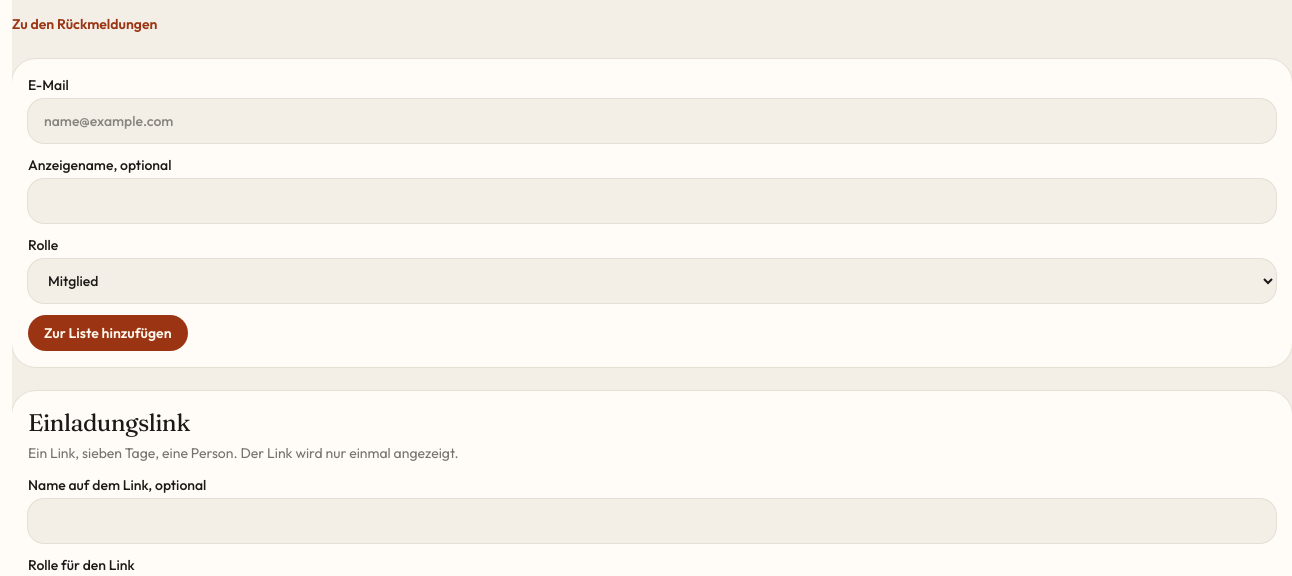
Test: AdminMembers › shows the German error when the invite is rejected
Type "ada@example.com" into the field labelled "E-Mail" at (652, 121), box [28,99,1276,143]
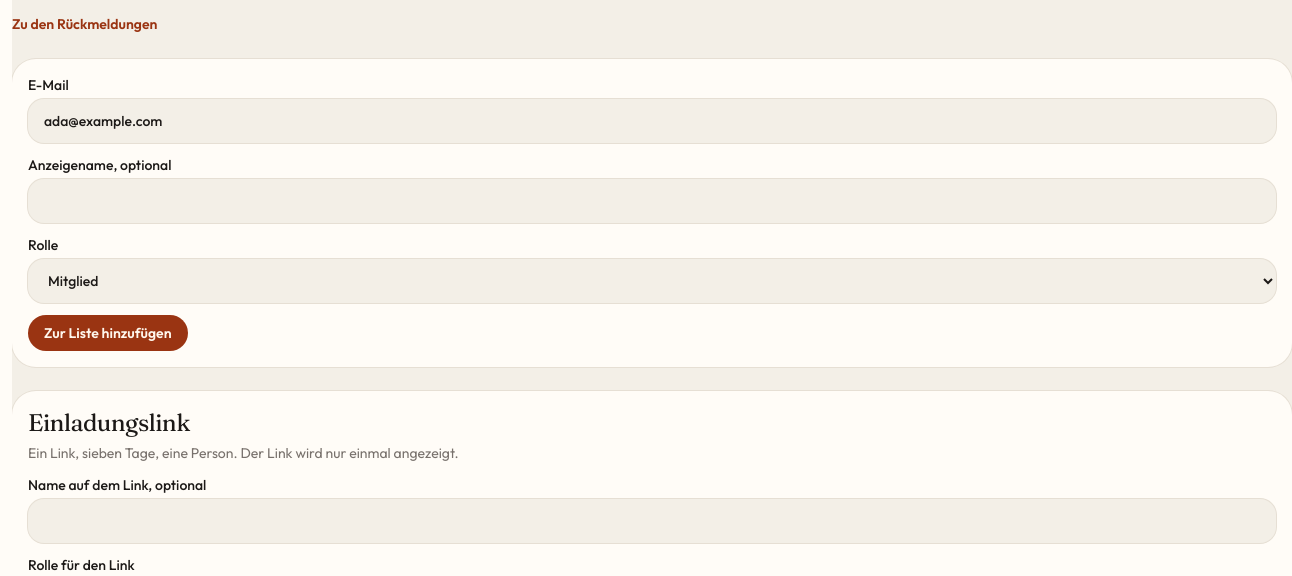
Click the button "Zur Liste hinzufügen" at (108, 333), box [28,315,188,351]
(page scrolled)
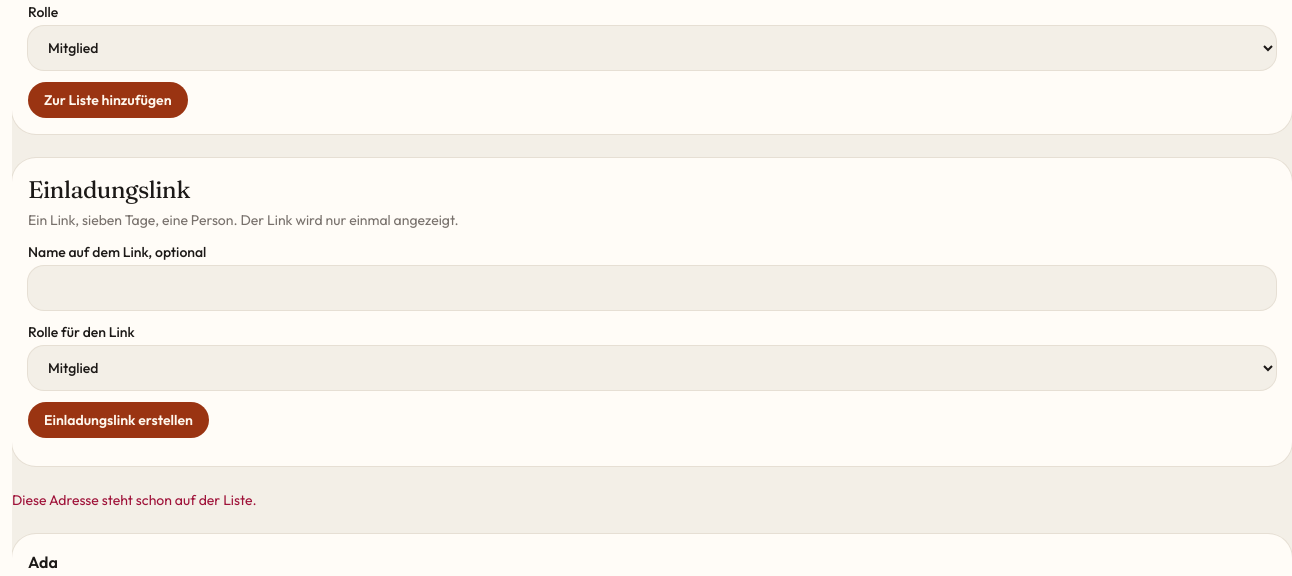
Check: the text "Diese Adresse steht schon auf der Liste." is shown, box [12,491,256,509]
